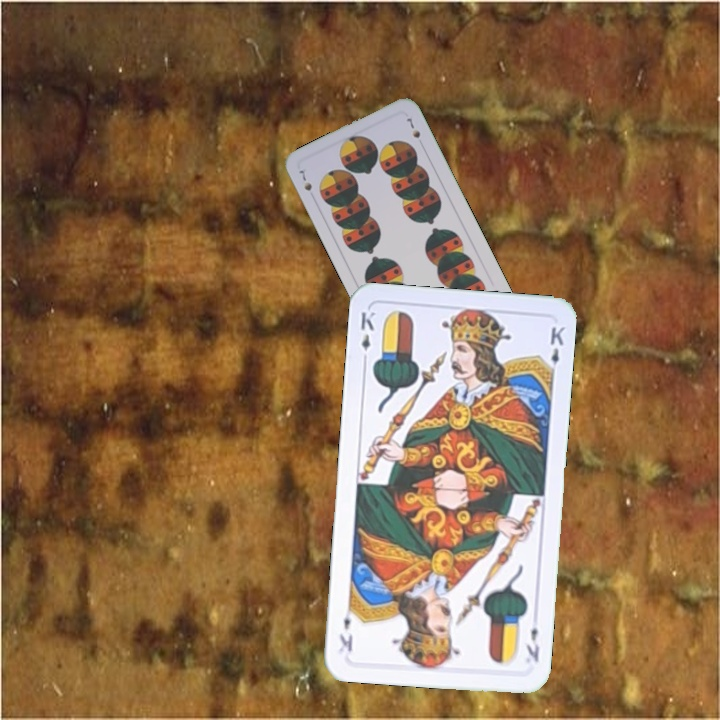EK: (356, 307, 377, 366), (522, 623, 542, 665)
S7: (295, 166, 315, 194)
